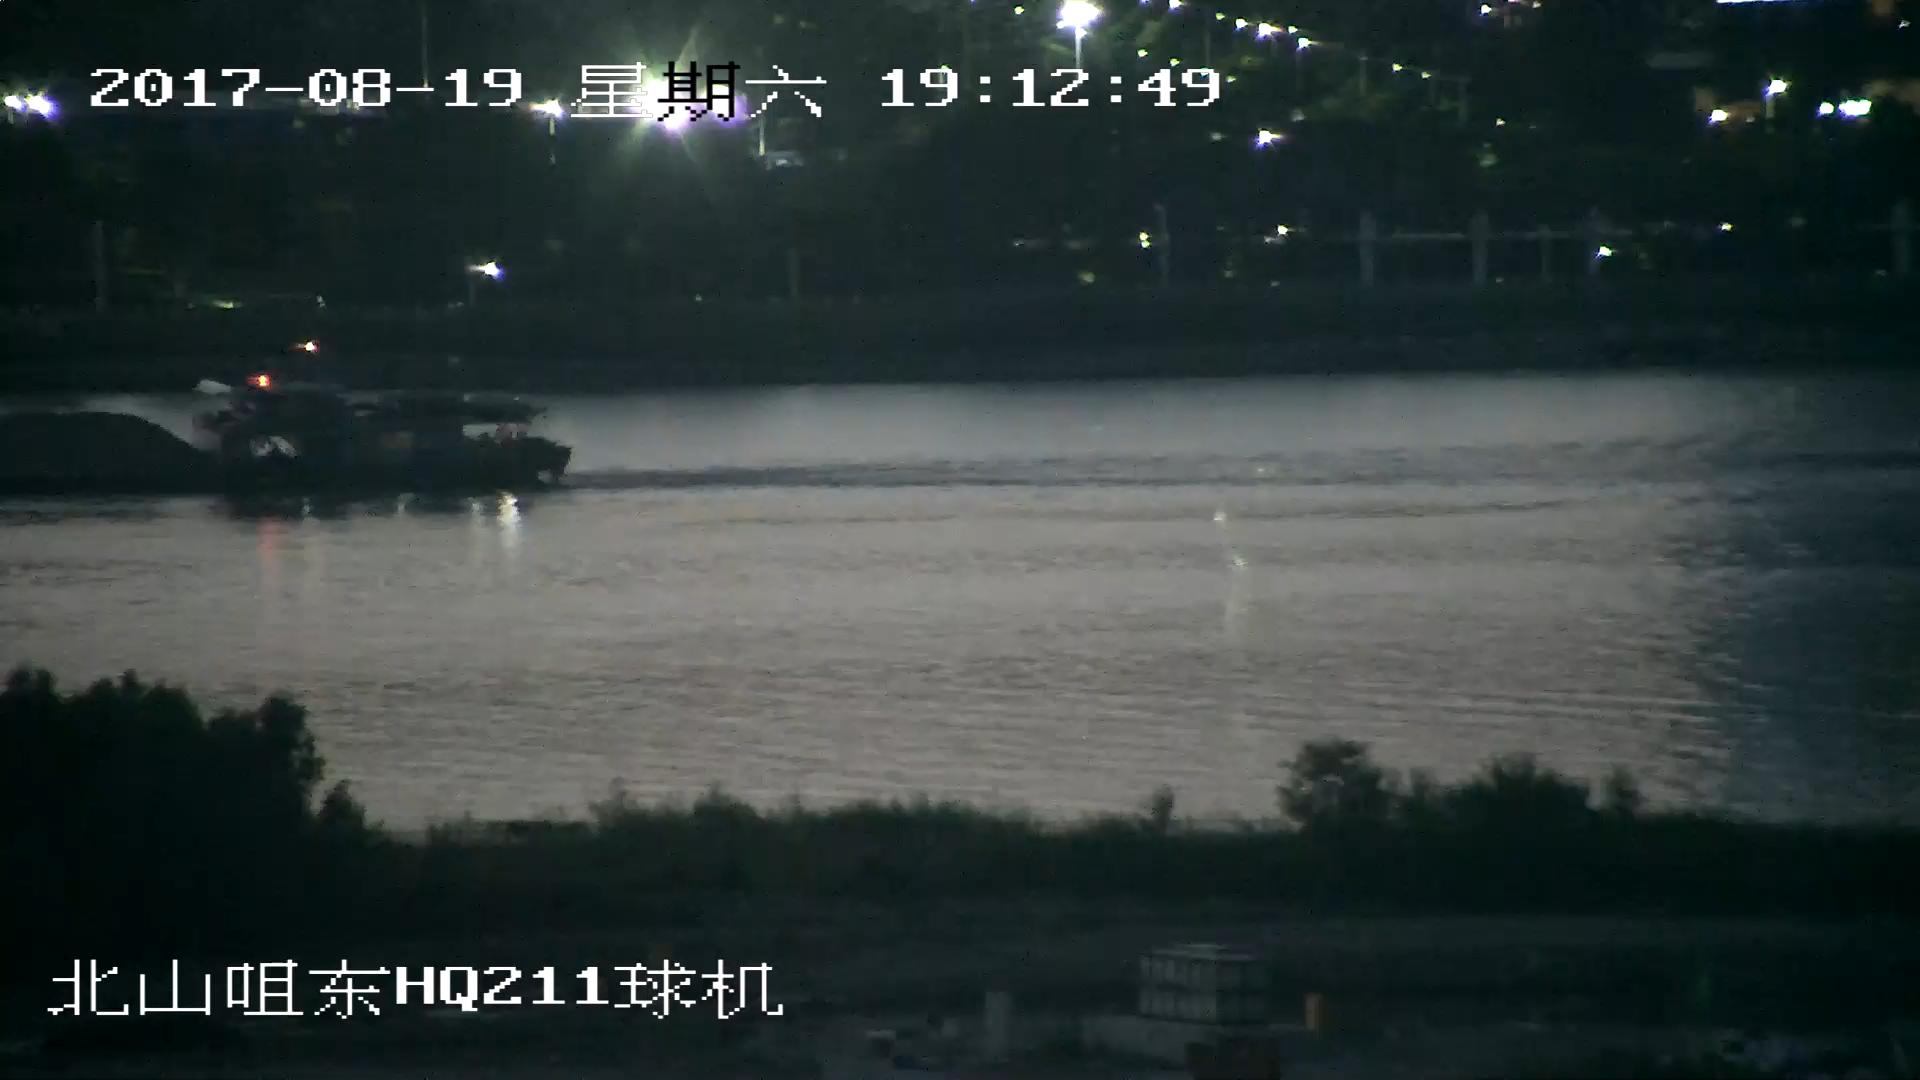ore carrier: (1, 357, 580, 508)
